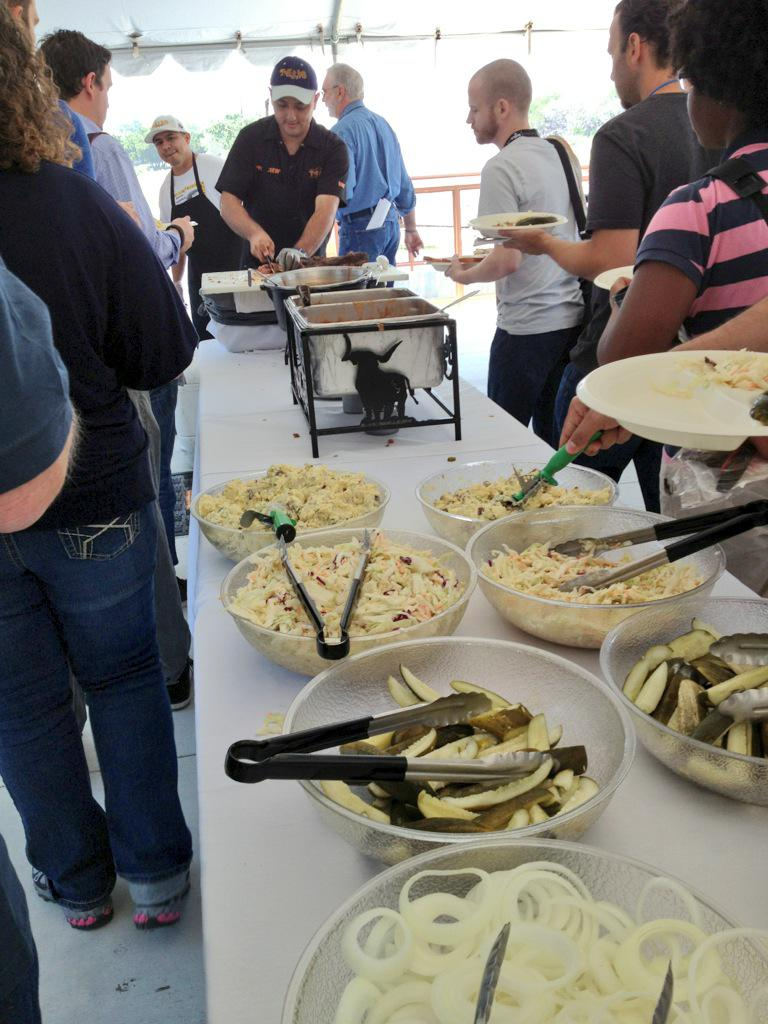Person: (0, 0, 768, 1024)
